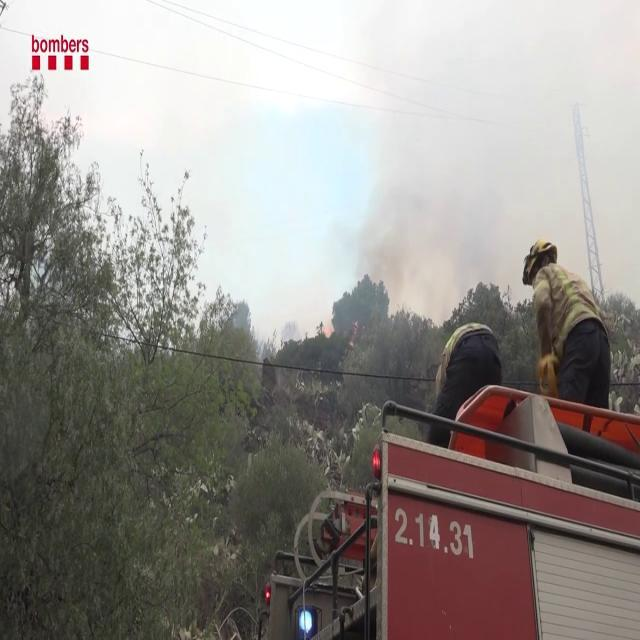Smoke: (321, 12, 523, 322)
